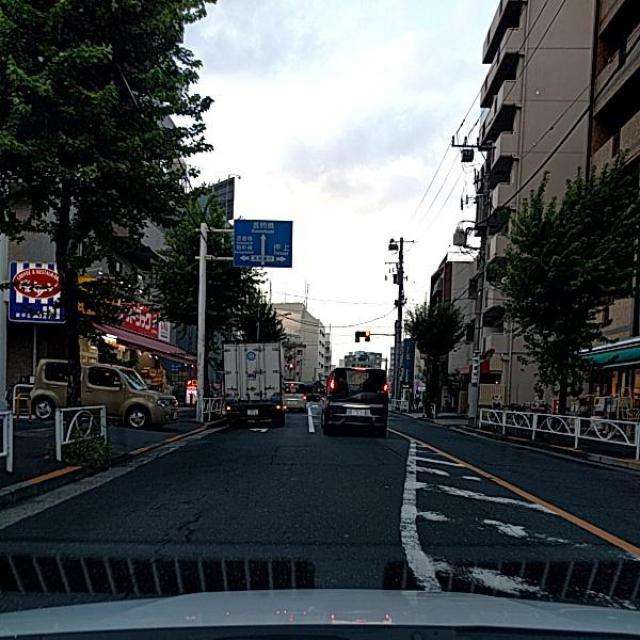Crack: (84, 454, 260, 570)
